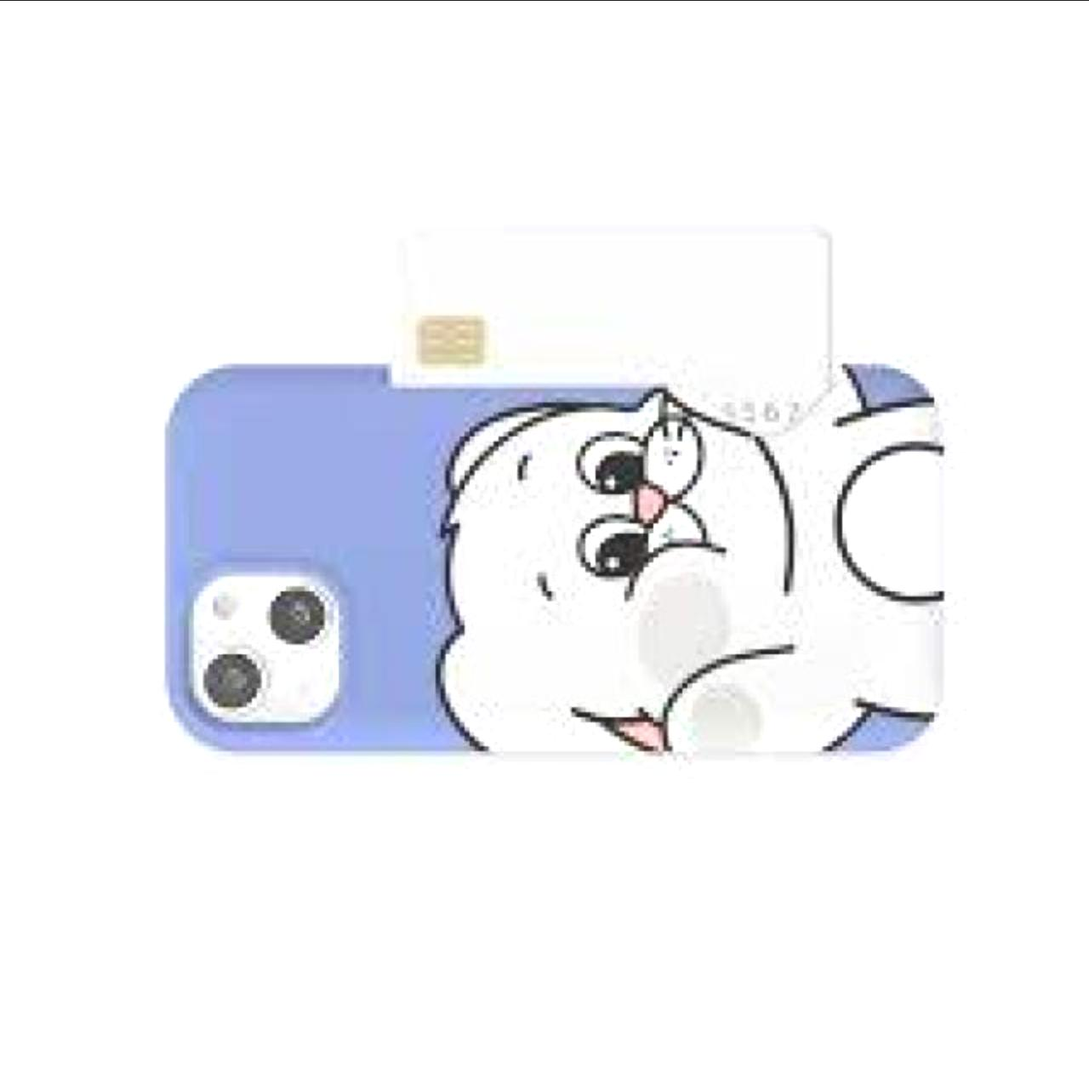phone: (158, 359, 951, 759)
